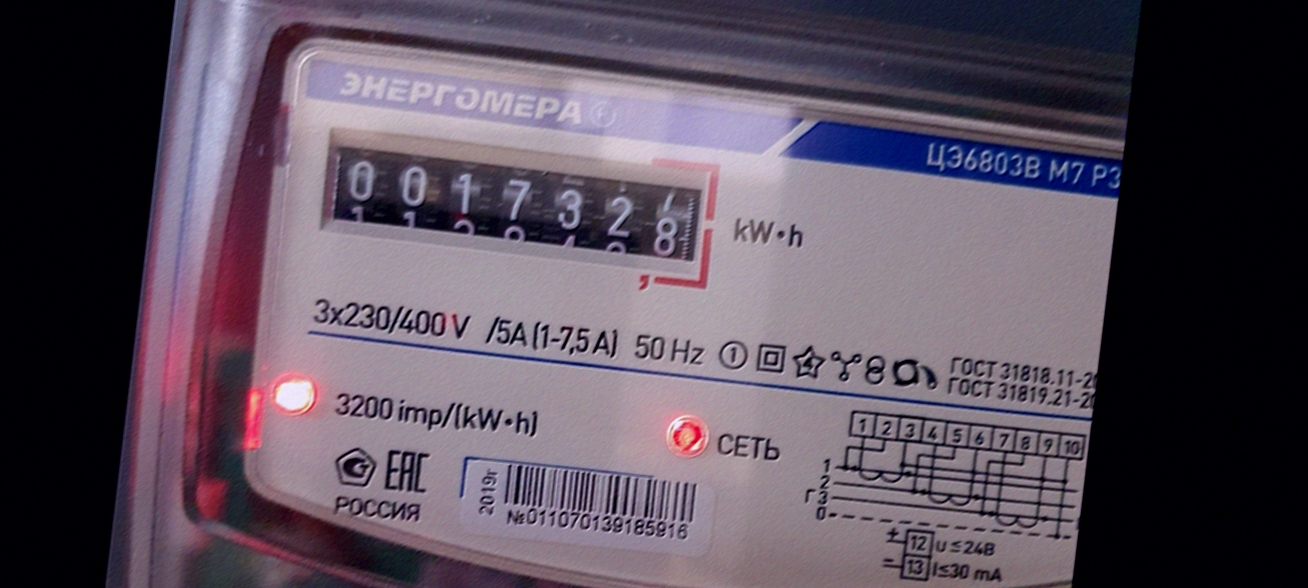0: (344, 159, 381, 206), (398, 162, 432, 211)
1: (451, 170, 478, 218)
2: (602, 194, 637, 242)
3: (554, 187, 586, 234)
7: (501, 177, 533, 227)
8: (650, 215, 680, 260)
screen: (307, 121, 729, 297)
